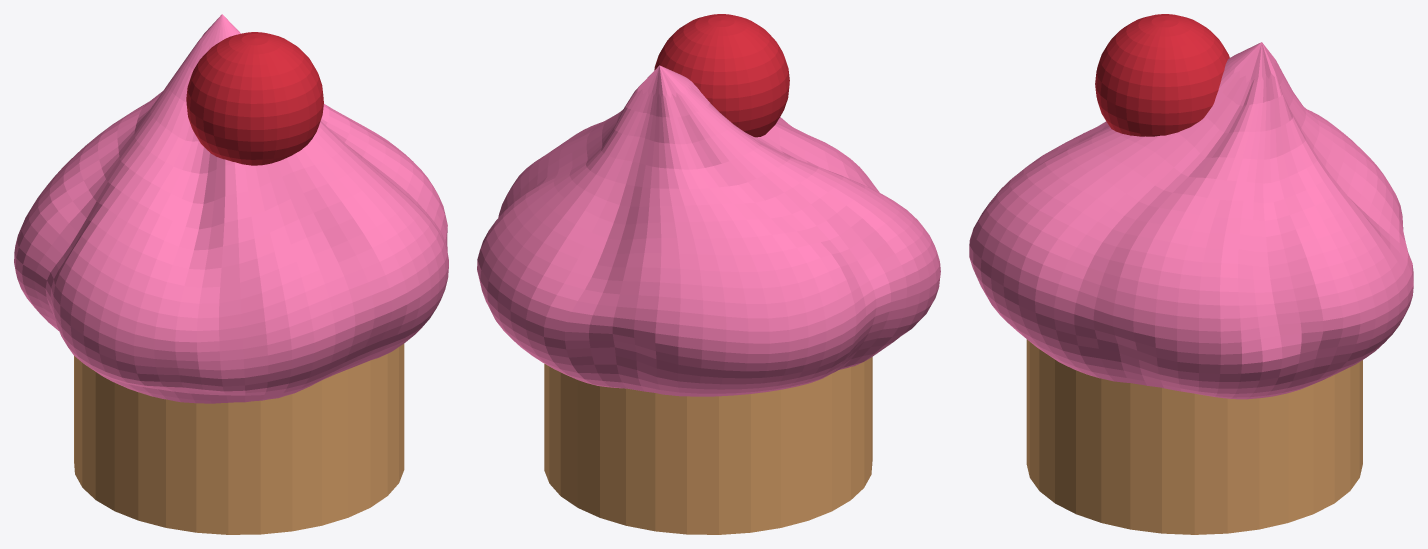
The model's file is CupcakeModel.fbx.
The picture shows the model from 3 angles, left to right: view 1: azimuth 30°, elevation 25°; view 2: azimuth 150°, elevation 25°; view 3: azimuth 270°, elevation 25°; orthographic projection. The views are drawn at different scales.
Parts seen in each view (by area): view 1: Sphere, Cylinder, Sphere.001; view 2: Sphere, Cylinder, Sphere.001; view 3: Sphere, Cylinder, Sphere.001.
Part boxes in pixels (box(x1,y1,x2,y2)): Sphere: box(14, 14, 448, 403); Cylinder: box(74, 344, 404, 534); Sphere.001: box(186, 32, 323, 165); Sphere: box(477, 65, 940, 396); Cylinder: box(544, 357, 872, 534); Sphere.001: box(654, 14, 789, 137); Sphere: box(969, 42, 1413, 399); Cylinder: box(1026, 339, 1362, 534); Sphere.001: box(1095, 14, 1229, 136).
Size of the model in its own units: 32.54 by 34.95 by 31.71.
